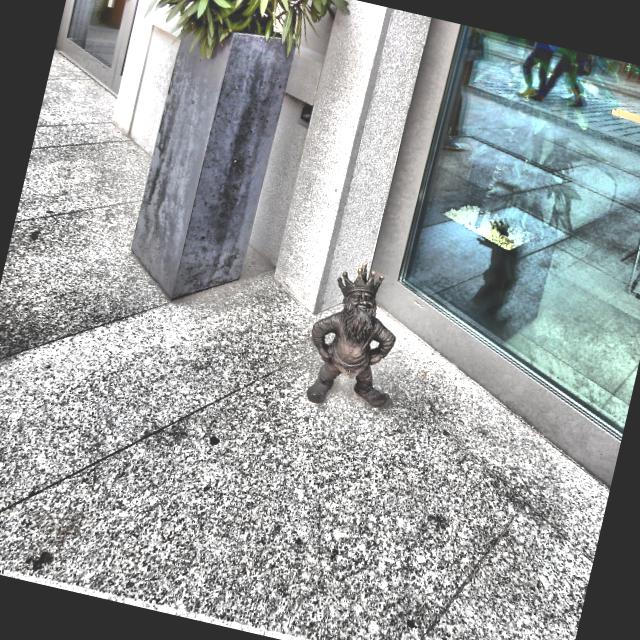Koronus: (306, 262, 396, 408)
